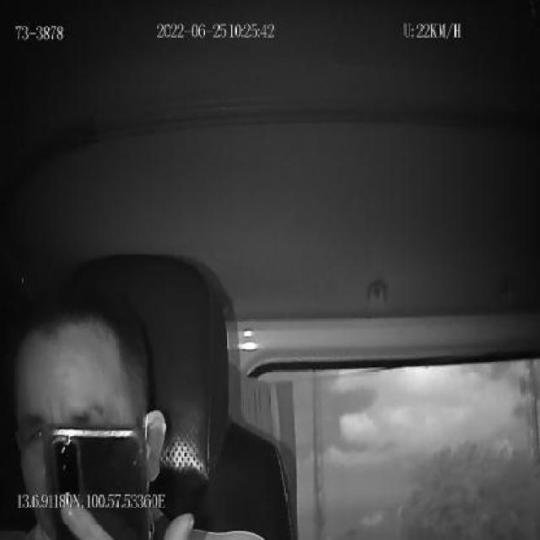phone: (45, 425, 152, 540)
